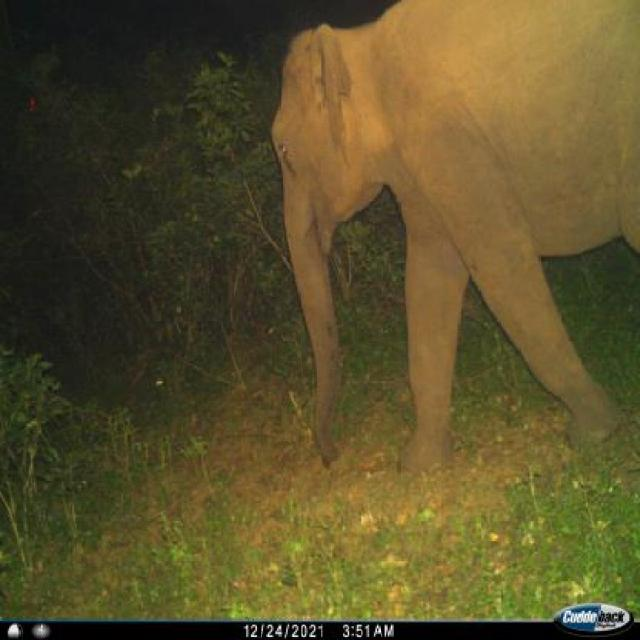Elephant: (264, 0, 639, 468)
